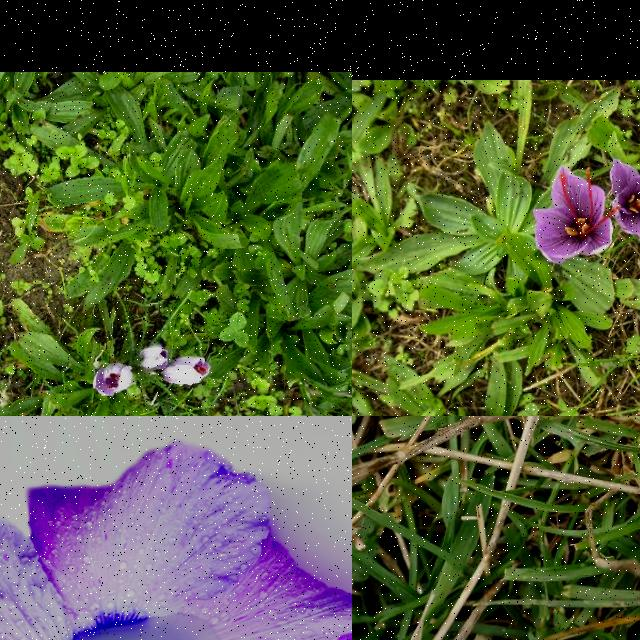flower: (532, 167, 620, 265), (610, 157, 640, 248), (163, 357, 211, 387), (94, 364, 134, 396), (141, 346, 171, 372)
